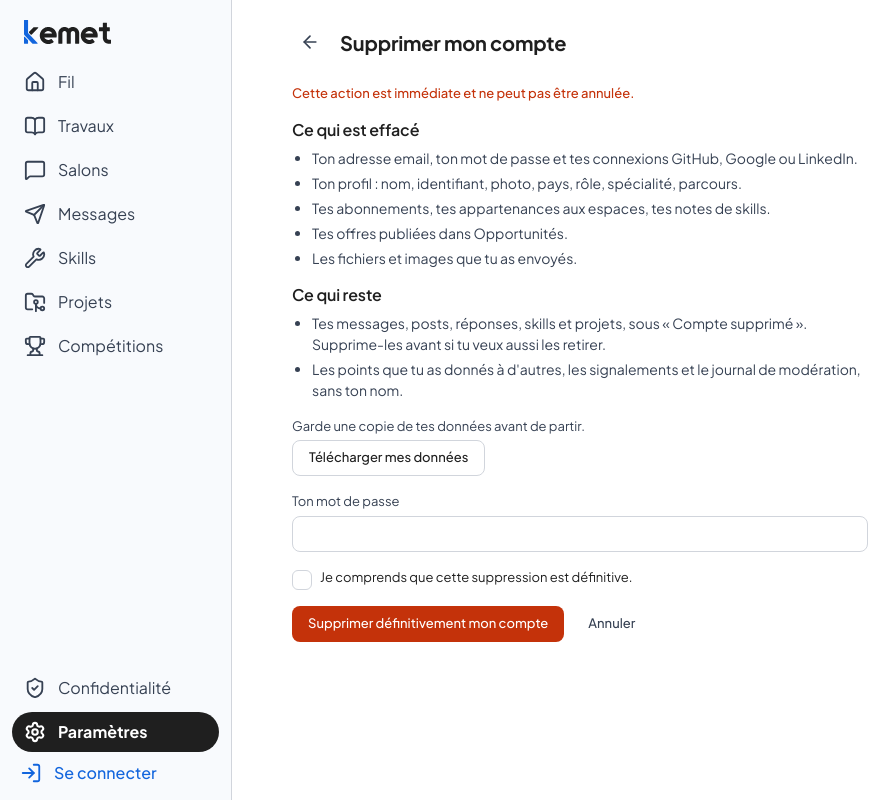
Scenario: DeleteAccountPage › dit clairement qu'un mot de passe est faux, sans quitter la page
Type "faux" into the password field labelled "Ton mot de passe" at (580, 534), box x1=292 y1=516 x2=868 y2=552
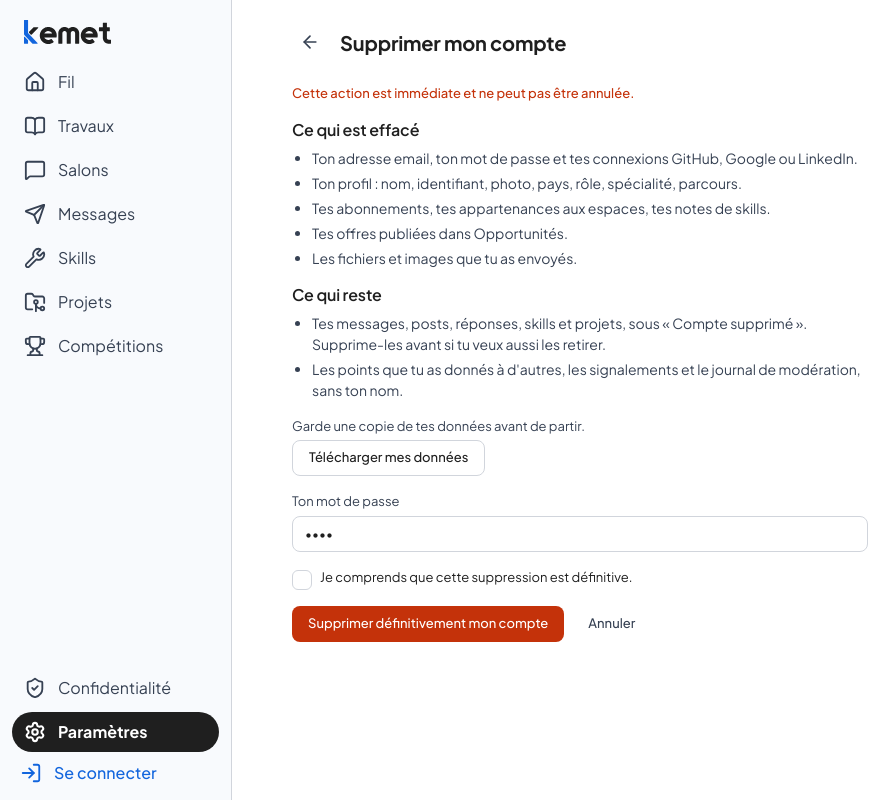
Click the checkbox at (302, 580), box x1=292 y1=570 x2=312 y2=590
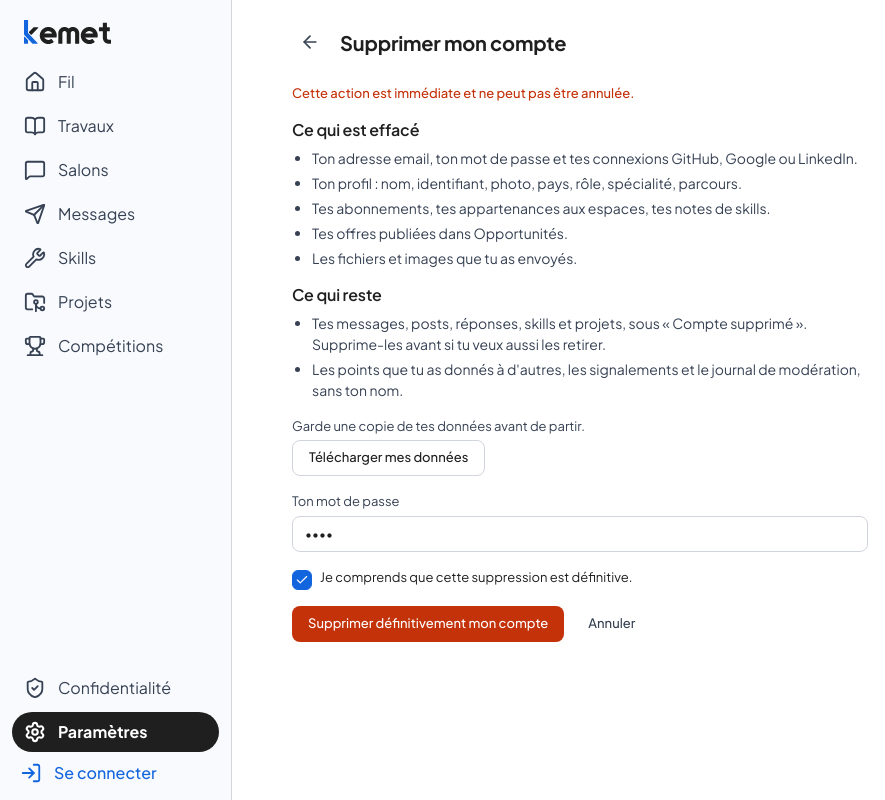
Click the button "Supprimer définitivement mon compte" at (428, 624), box x1=292 y1=606 x2=564 y2=642
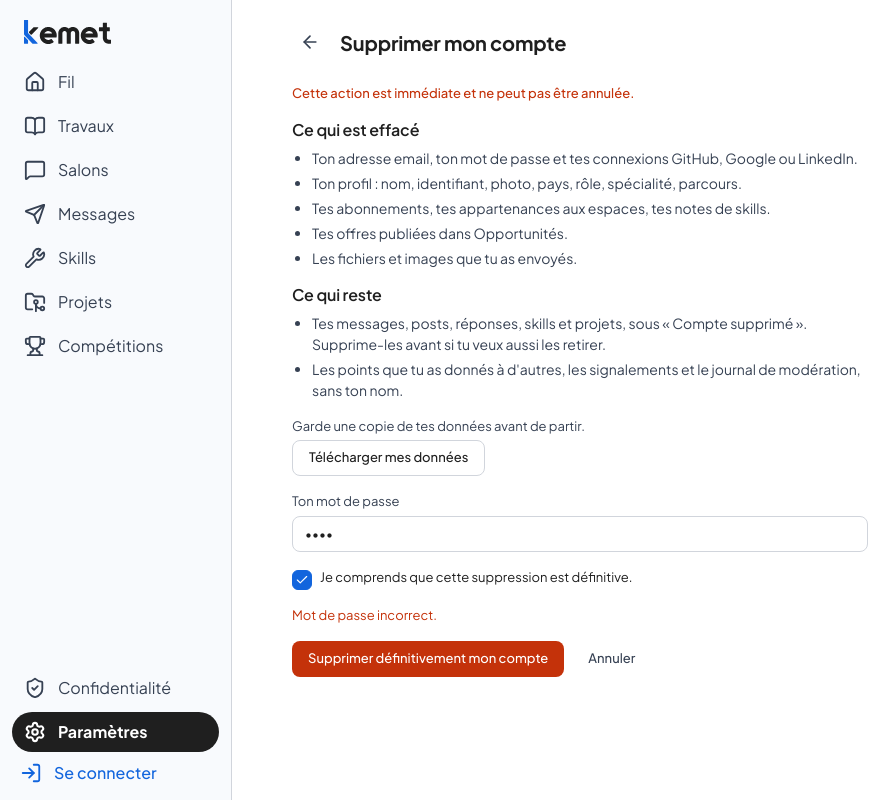
expect the message reads "Mot de passe incorrect.": met, box x1=292 y1=606 x2=437 y2=622
